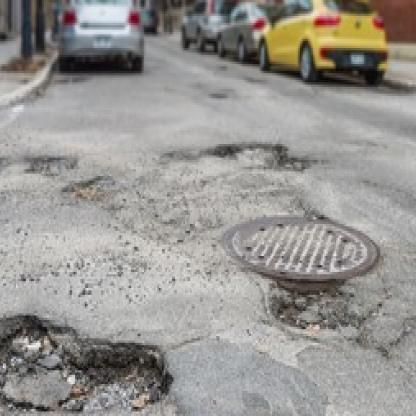pothole: (0, 313, 174, 416), (274, 281, 362, 338), (210, 142, 310, 171), (64, 176, 115, 208), (24, 153, 77, 183)
